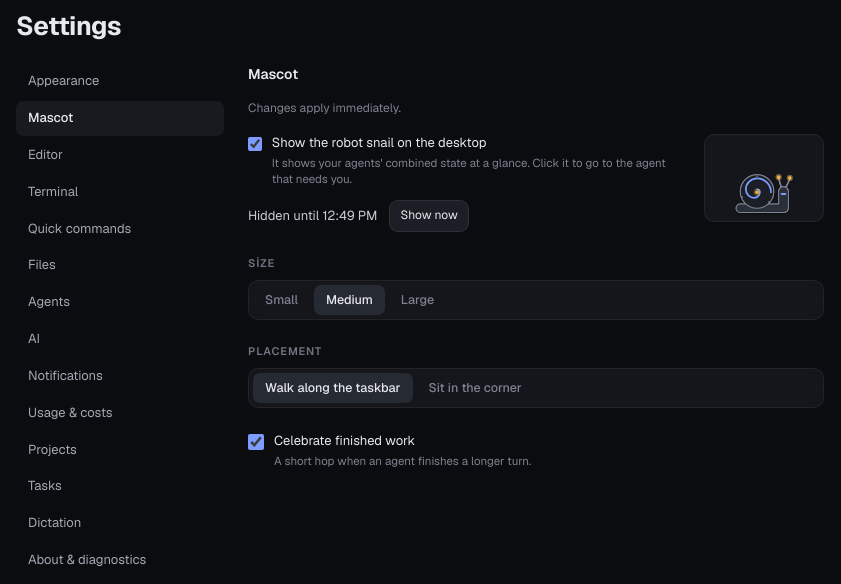
it: SettingsPage › Mascot (saved at once, only buddy) › shows when the mascot is hidden and brings it back
This screenshot has width=841, height=584.
Click the button "Show now": point(429, 216) top-left (390, 200), bottom-right (469, 232)
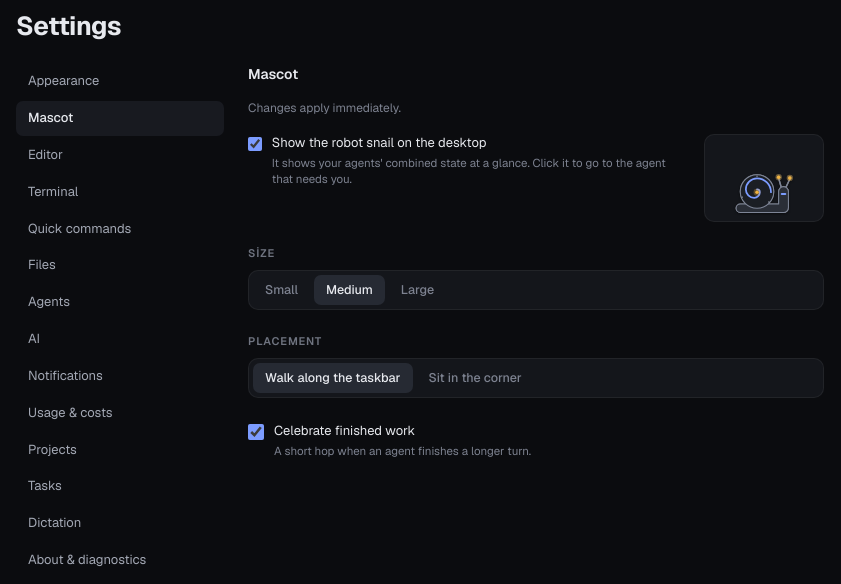
Now the button "Show now" is gone
